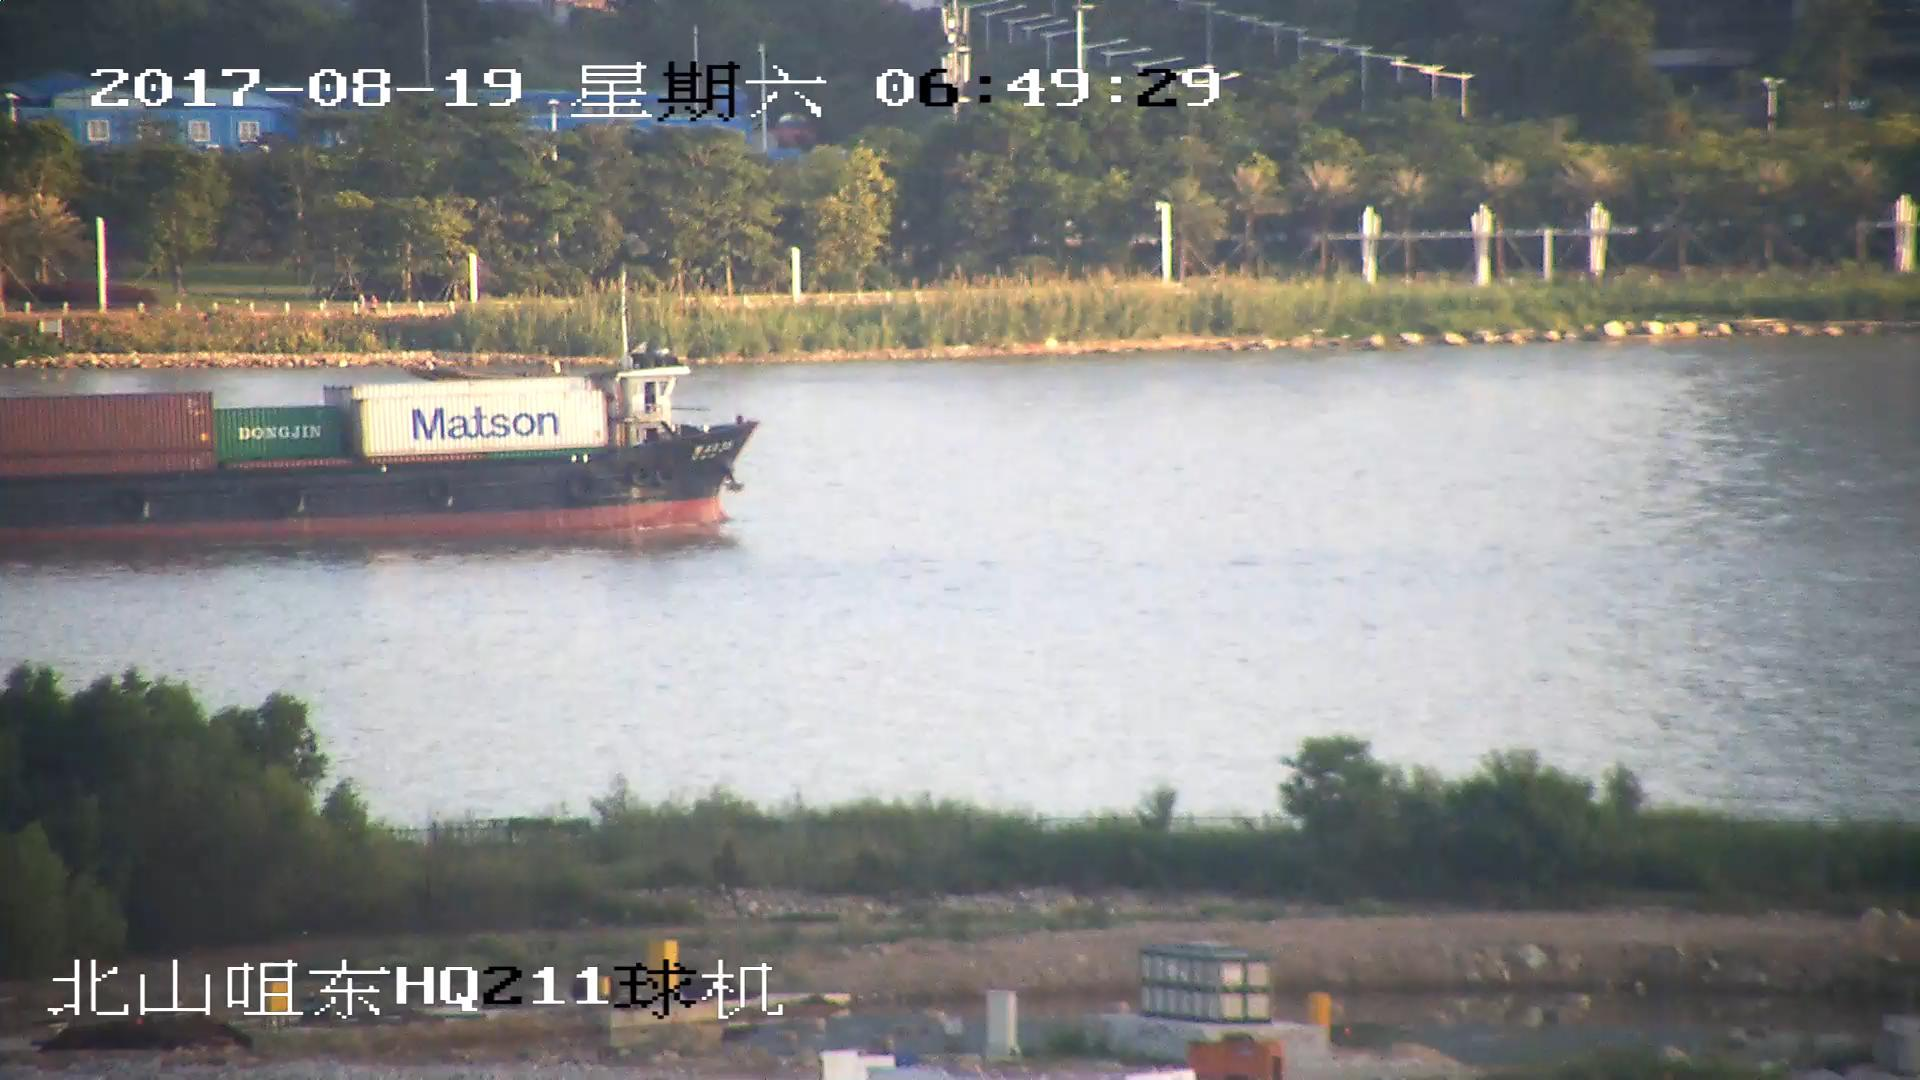Ship: (3, 343, 746, 545)
